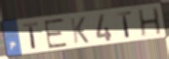4: (94, 12, 114, 42)
E: (43, 17, 69, 50)
H: (136, 6, 163, 38)
K: (69, 16, 91, 45)
T: (22, 21, 40, 51), (116, 10, 134, 39)
